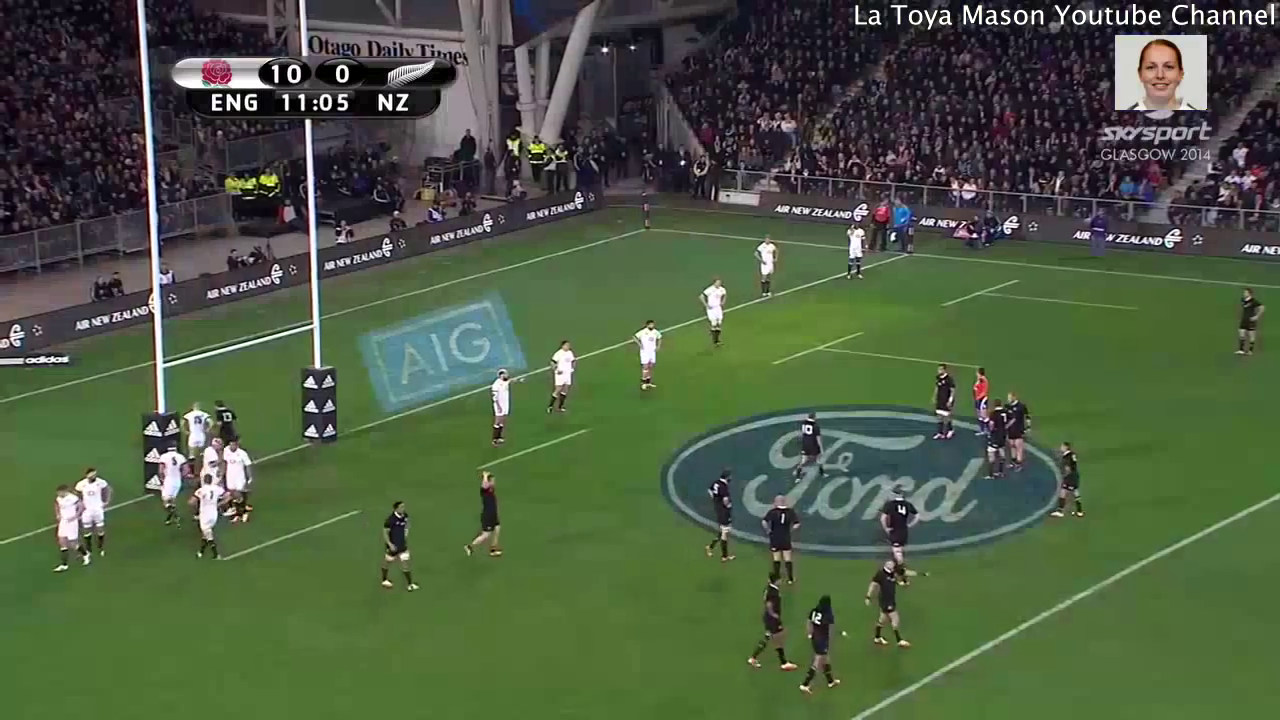player: (748, 569, 796, 674), (864, 557, 918, 650), (462, 465, 512, 561), (799, 592, 843, 696), (757, 489, 802, 587), (377, 494, 421, 594), (1042, 436, 1090, 522), (45, 477, 85, 576), (703, 461, 740, 564), (77, 463, 116, 559), (184, 472, 224, 560), (690, 271, 732, 350), (539, 338, 578, 417), (924, 360, 958, 444), (223, 440, 258, 519), (148, 438, 181, 518), (746, 228, 780, 305), (631, 320, 666, 394), (483, 364, 513, 450), (878, 487, 913, 559), (838, 217, 872, 285), (1000, 391, 1030, 466), (794, 408, 824, 482), (1233, 283, 1264, 353), (983, 397, 1009, 475), (965, 363, 991, 434), (180, 407, 214, 455), (214, 396, 236, 428)
post: (141, 164, 344, 510)
